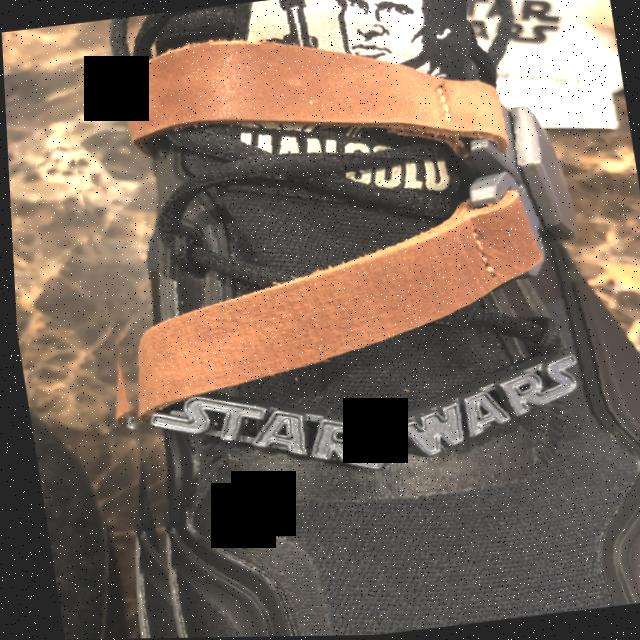shoe: (44, 0, 640, 639)
